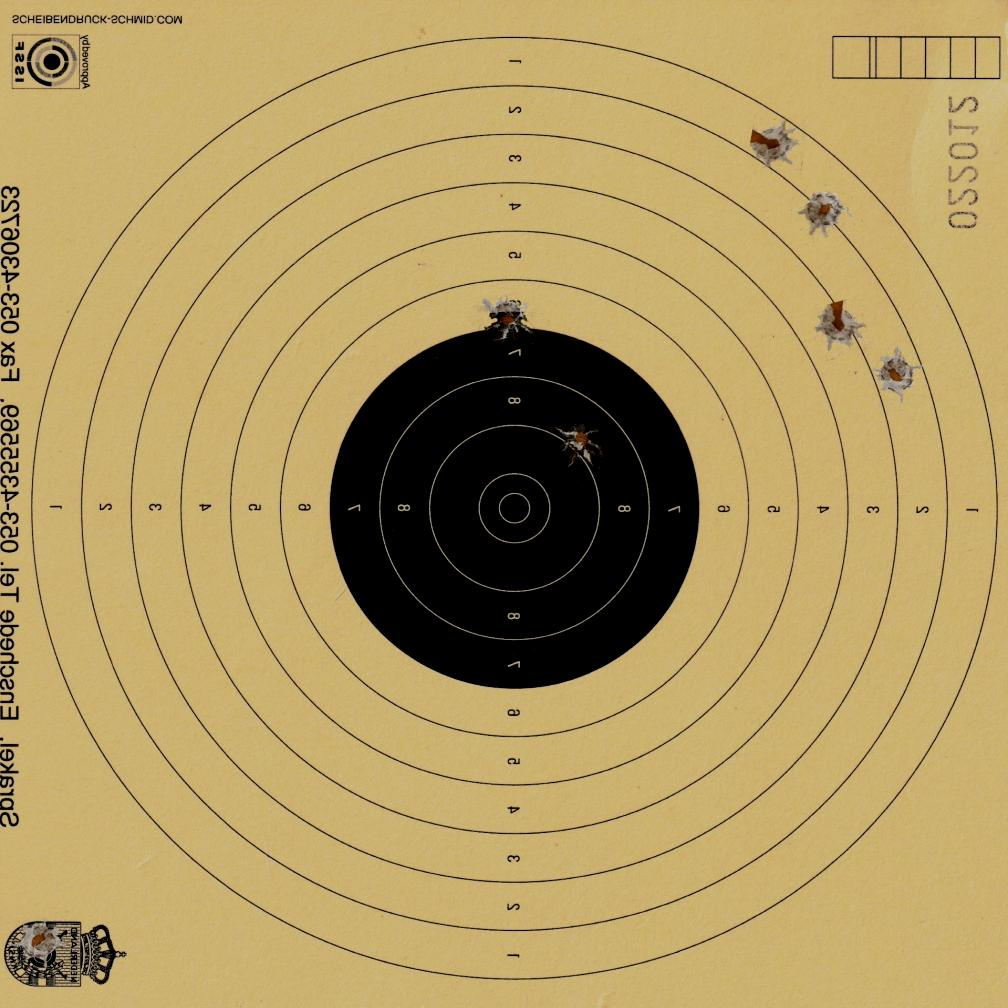0: (10, 915, 70, 969)
2: (743, 117, 803, 172), (872, 346, 923, 403), (796, 189, 852, 239)
3: (813, 300, 866, 352)
7: (479, 294, 533, 346)
9: (551, 421, 606, 470)
Target: (26, 30, 999, 984)
black_contour: (329, 326, 699, 689)
